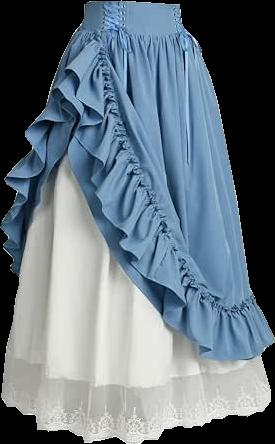Hemline: (0, 67, 274, 362), (0, 394, 271, 443)
Waistline: (79, 25, 186, 37), (82, 1, 181, 7)
